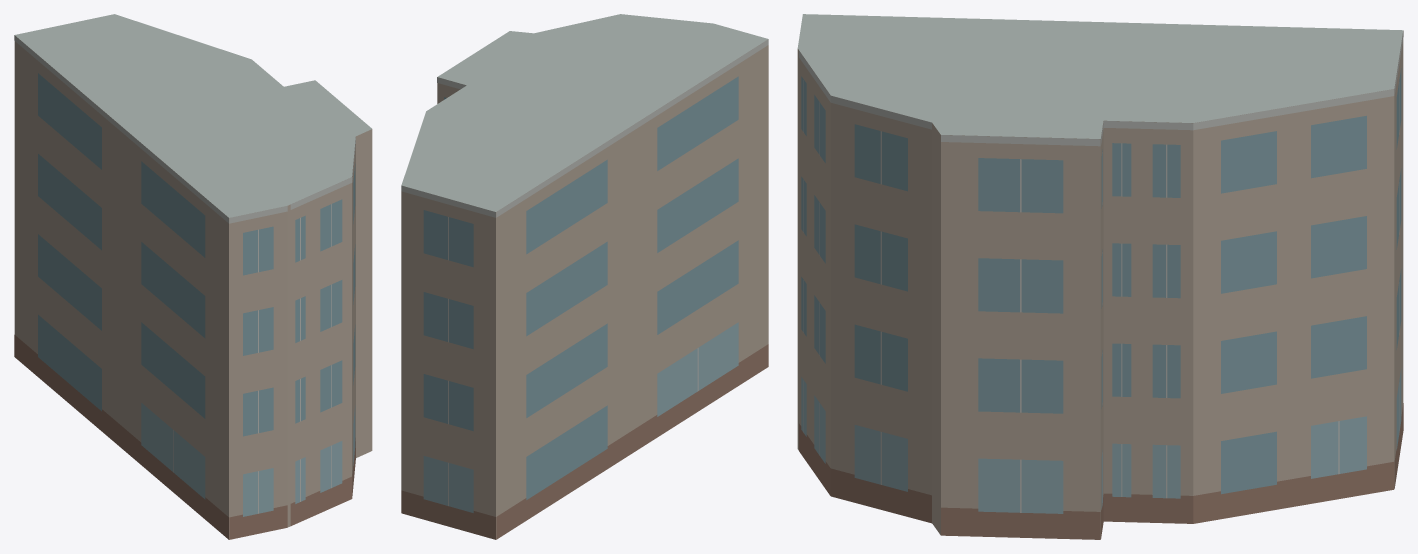
File: survey-upis-32618455.glb
3 views of the same model, side by side, from view 1: azimuth 30°, elevation 25°; view 2: azimuth 150°, elevation 25°; view 3: azimuth 270°, elevation 25° (orthographic). The views are drawn at different scales.
Parts seen in each view (by area): view 1: survey-upis-32618455.tmp; view 2: survey-upis-32618455.tmp; view 3: survey-upis-32618455.tmp.
Boxes of the visible parts, x1,y1,x2,y2 form: survey-upis-32618455.tmp: (14, 14, 372, 539); survey-upis-32618455.tmp: (401, 14, 768, 539); survey-upis-32618455.tmp: (797, 14, 1403, 539).
Bounding box in the file's own units: 9.18 × 13.7 × 18.77.
